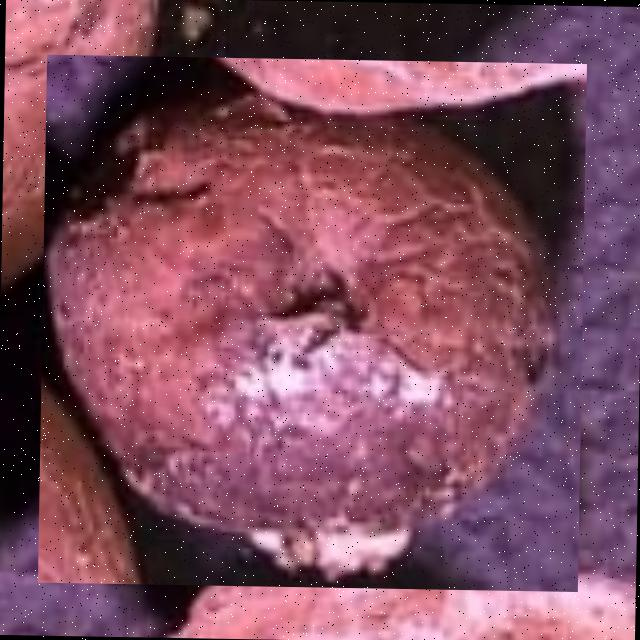Damaged potato: (38, 54, 586, 590)
